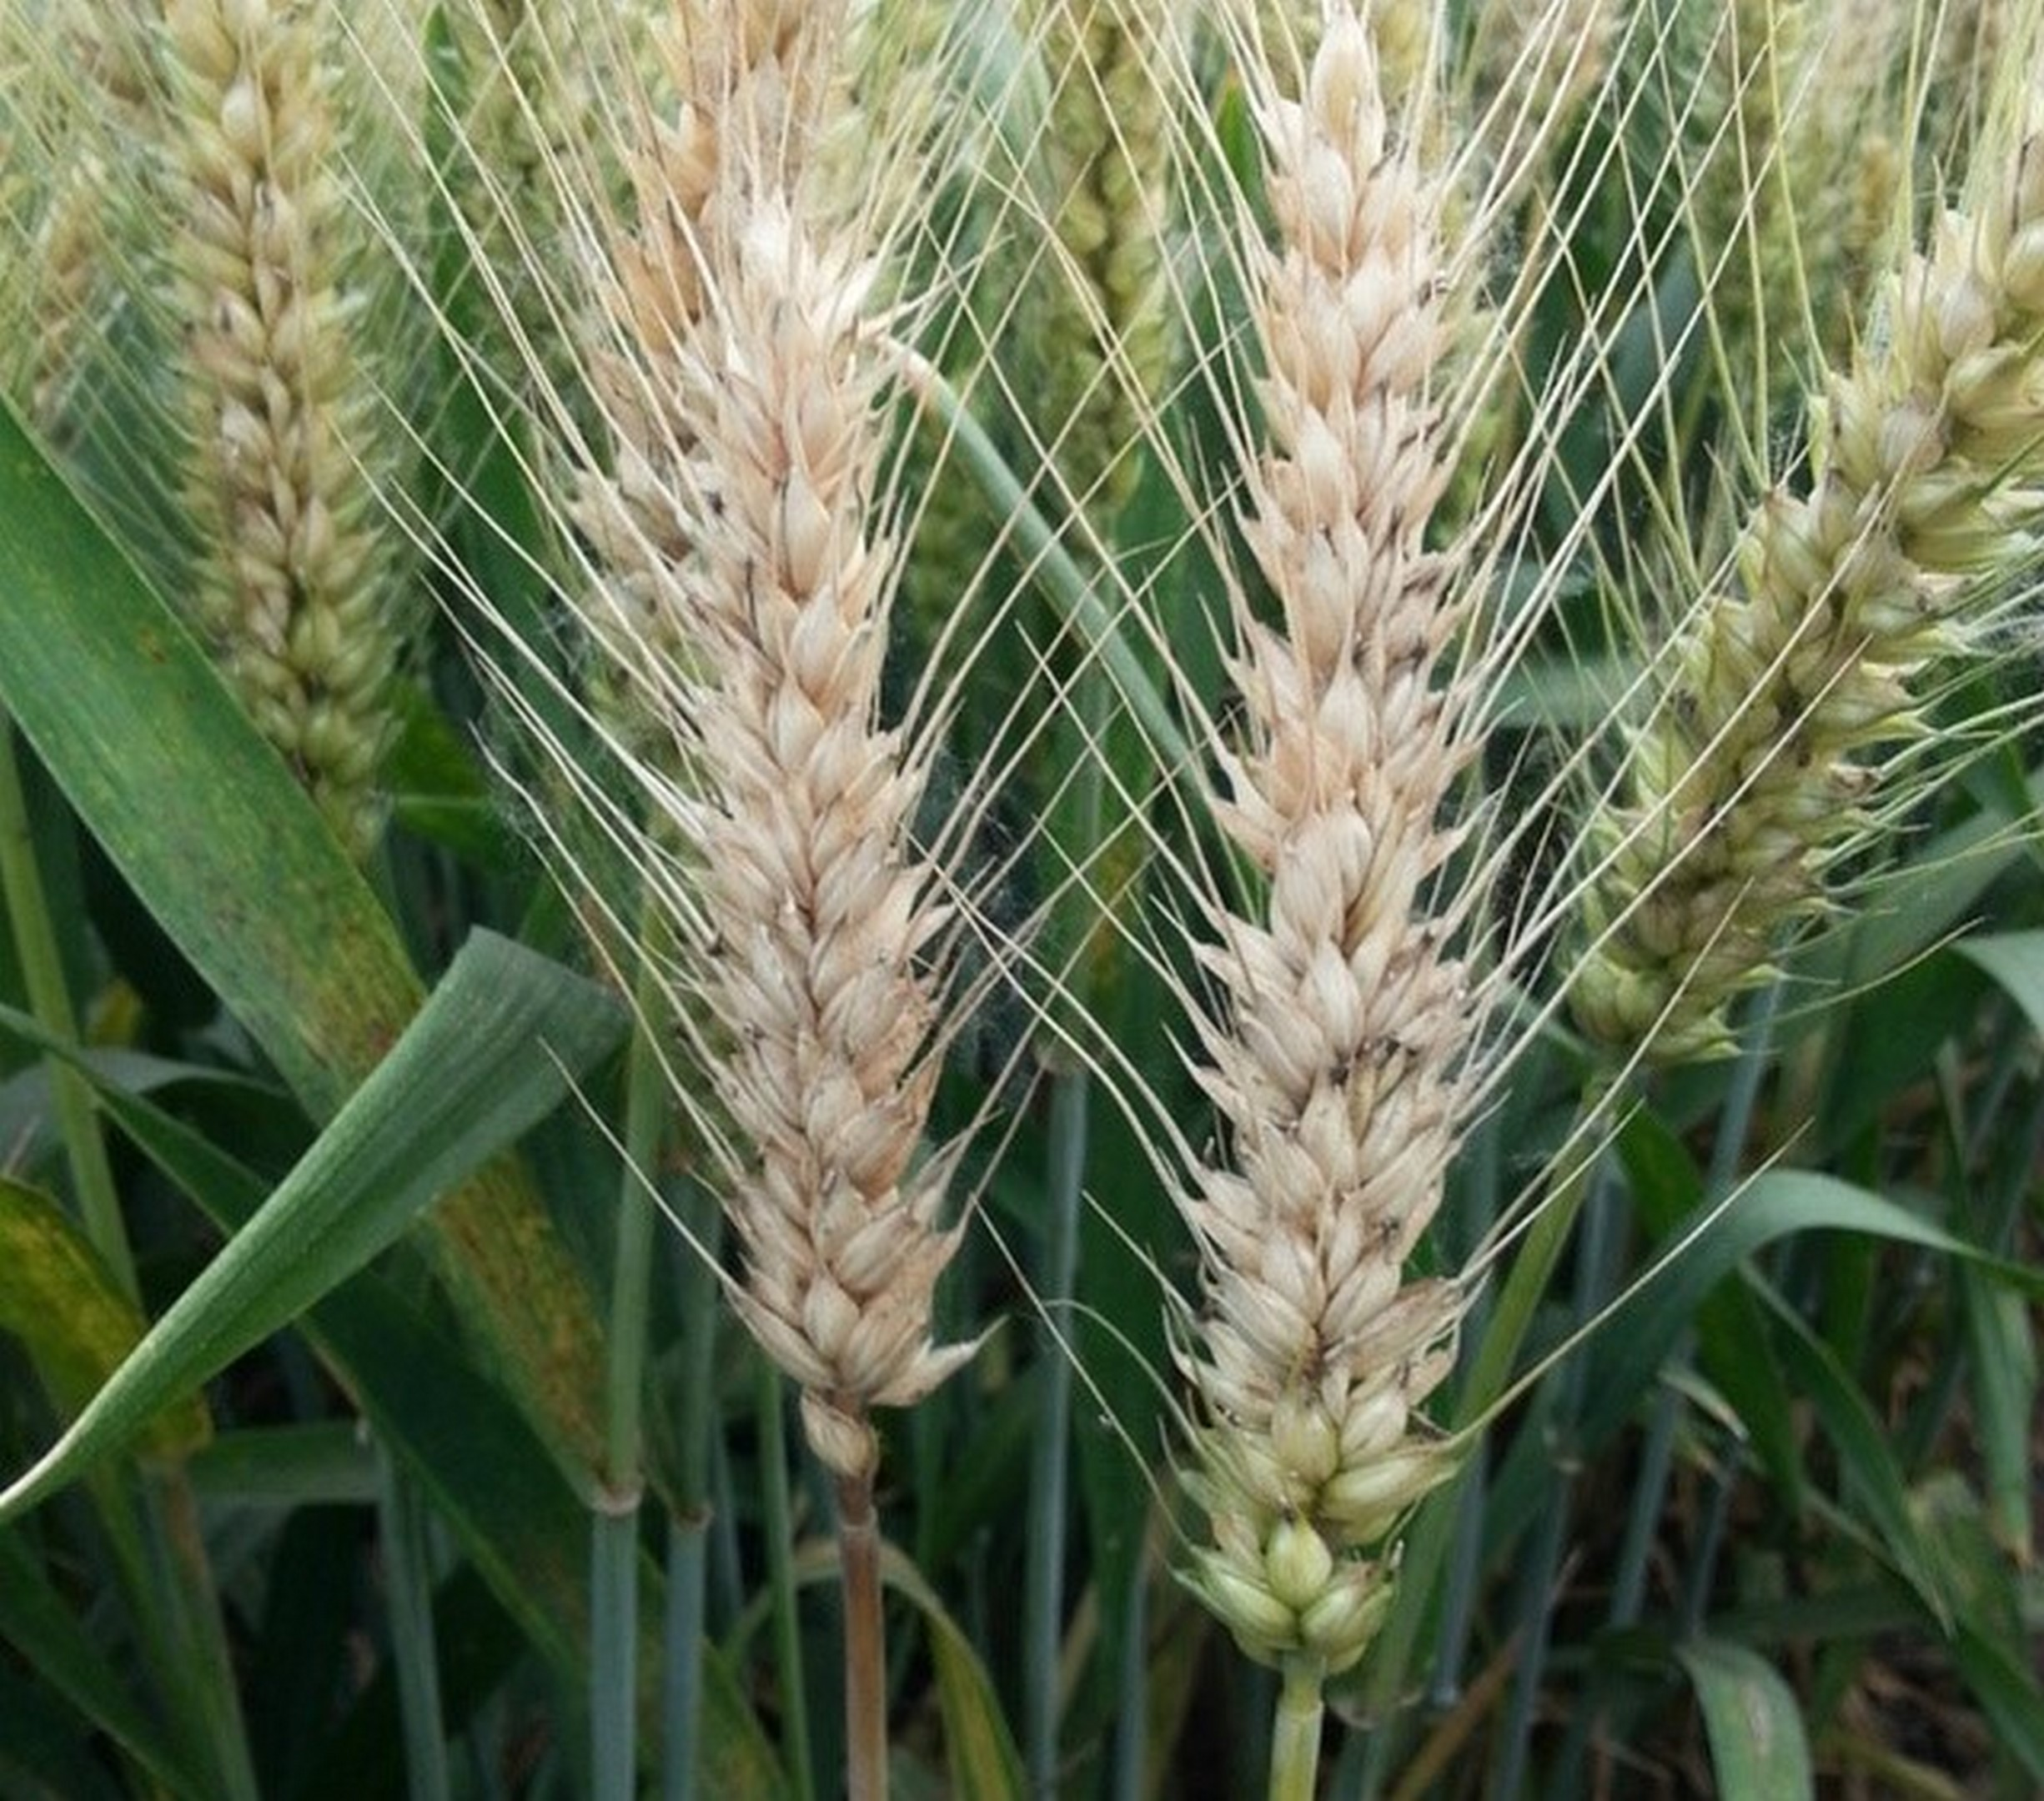Wheat scab: (619, 103, 979, 1469), (1147, 619, 1554, 1691)
